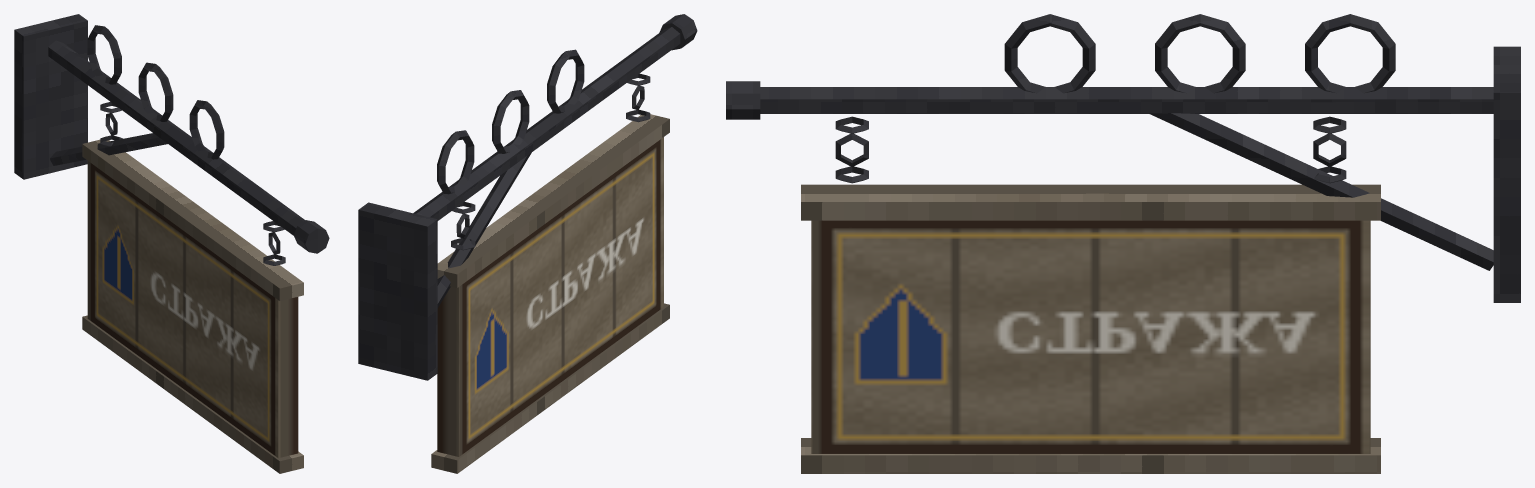
The model's file is sign_police.obj.
The picture shows the model from 3 angles, left to right: view 1: azimuth 30°, elevation 25°; view 2: azimuth 150°, elevation 25°; view 3: azimuth 270°, elevation 25°; orthographic projection. The views are drawn at different scales.
Visible parts, largest first — view 1: sign_police; view 2: sign_police; view 3: sign_police.
Boxes of the visible parts, x1,y1,x2,y2 form: sign_police: [14, 14, 329, 473]; sign_police: [358, 14, 697, 473]; sign_police: [726, 14, 1520, 473].
Bounding box in the file's own units: 0.16 × 0.73 × 1.16.
